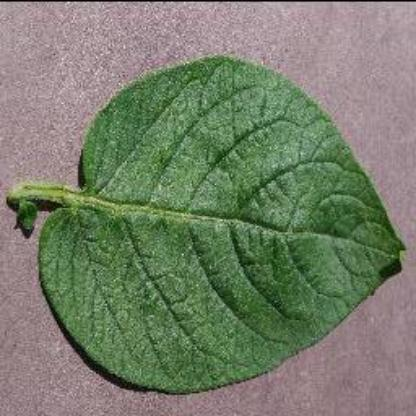Healthy-plant: (9, 41, 402, 402)
